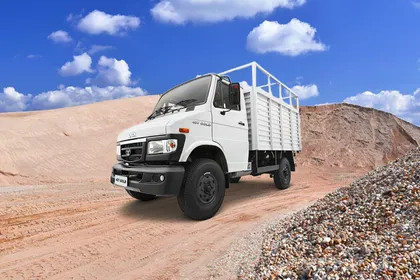truck: (110, 61, 303, 221)
